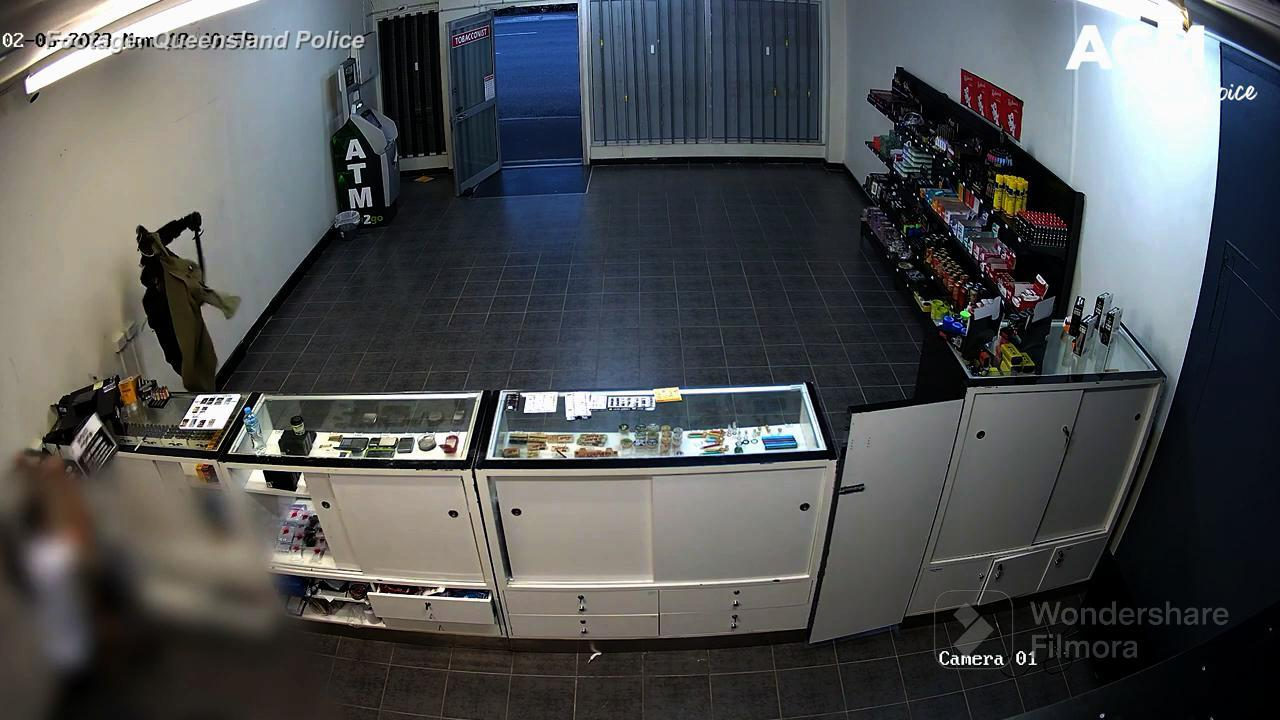melee: (185, 218, 212, 288)
